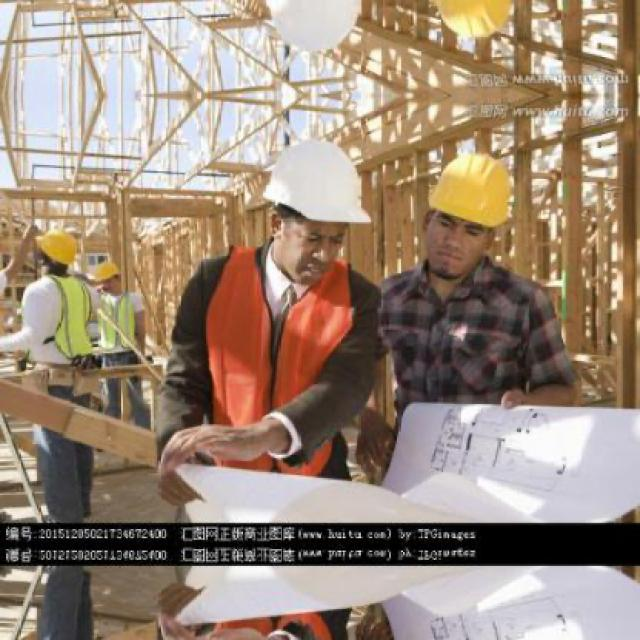Reflective-Jacket: (182, 245, 369, 478), (11, 273, 100, 372), (92, 290, 148, 364)
Safety-Helmet: (245, 131, 382, 239), (409, 142, 528, 244), (28, 224, 88, 276), (85, 253, 129, 293)
